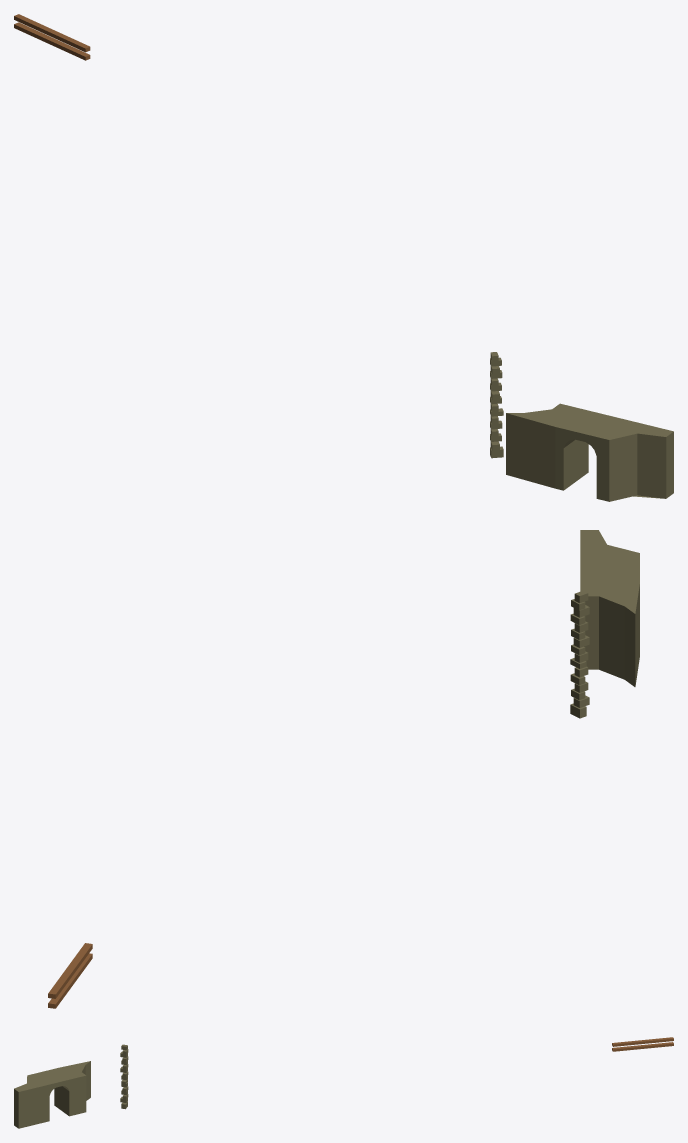
3 renders of one model, top to bottom at view 1: azimuth 30°, elevation 25°; view 2: azimuth 150°, elevation 25°; view 3: azimuth 270°, elevation 25°, orthographic. The views are drawn at different scales.
Visible parts, largest first — view 1: Object212_rock2_0, Box16200_rock2_0; view 2: Object212_rock2_0, Box16200_rock2_0; view 3: Object212_rock2_0, Box16200_rock2_0, Box531_brown_0, Box533_brown_0.
Boxes of the visible parts, <box> form: Object212_rock2_0: <box>506,403,673,501</box>; Box16200_rock2_0: <box>490,352,503,458</box>; Object212_rock2_0: <box>580,530,639,686</box>; Box16200_rock2_0: <box>570,590,589,718</box>; Object212_rock2_0: <box>14,1061,90,1128</box>; Box16200_rock2_0: <box>120,1044,128,1109</box>; Box531_brown_0: <box>612,1042,673,1051</box>; Box533_brown_0: <box>612,1037,673,1046</box>.
Bounding box in the file's own units: 755 × 711 × 6642.
